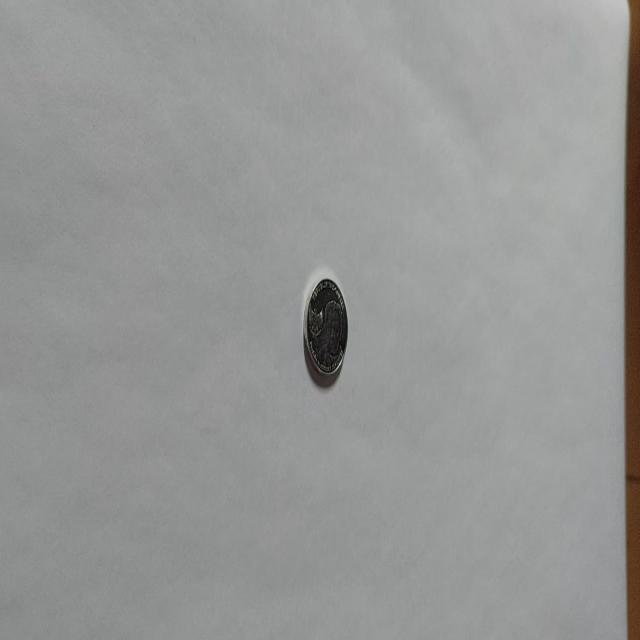seratus rupiah: (302, 276, 348, 382)
